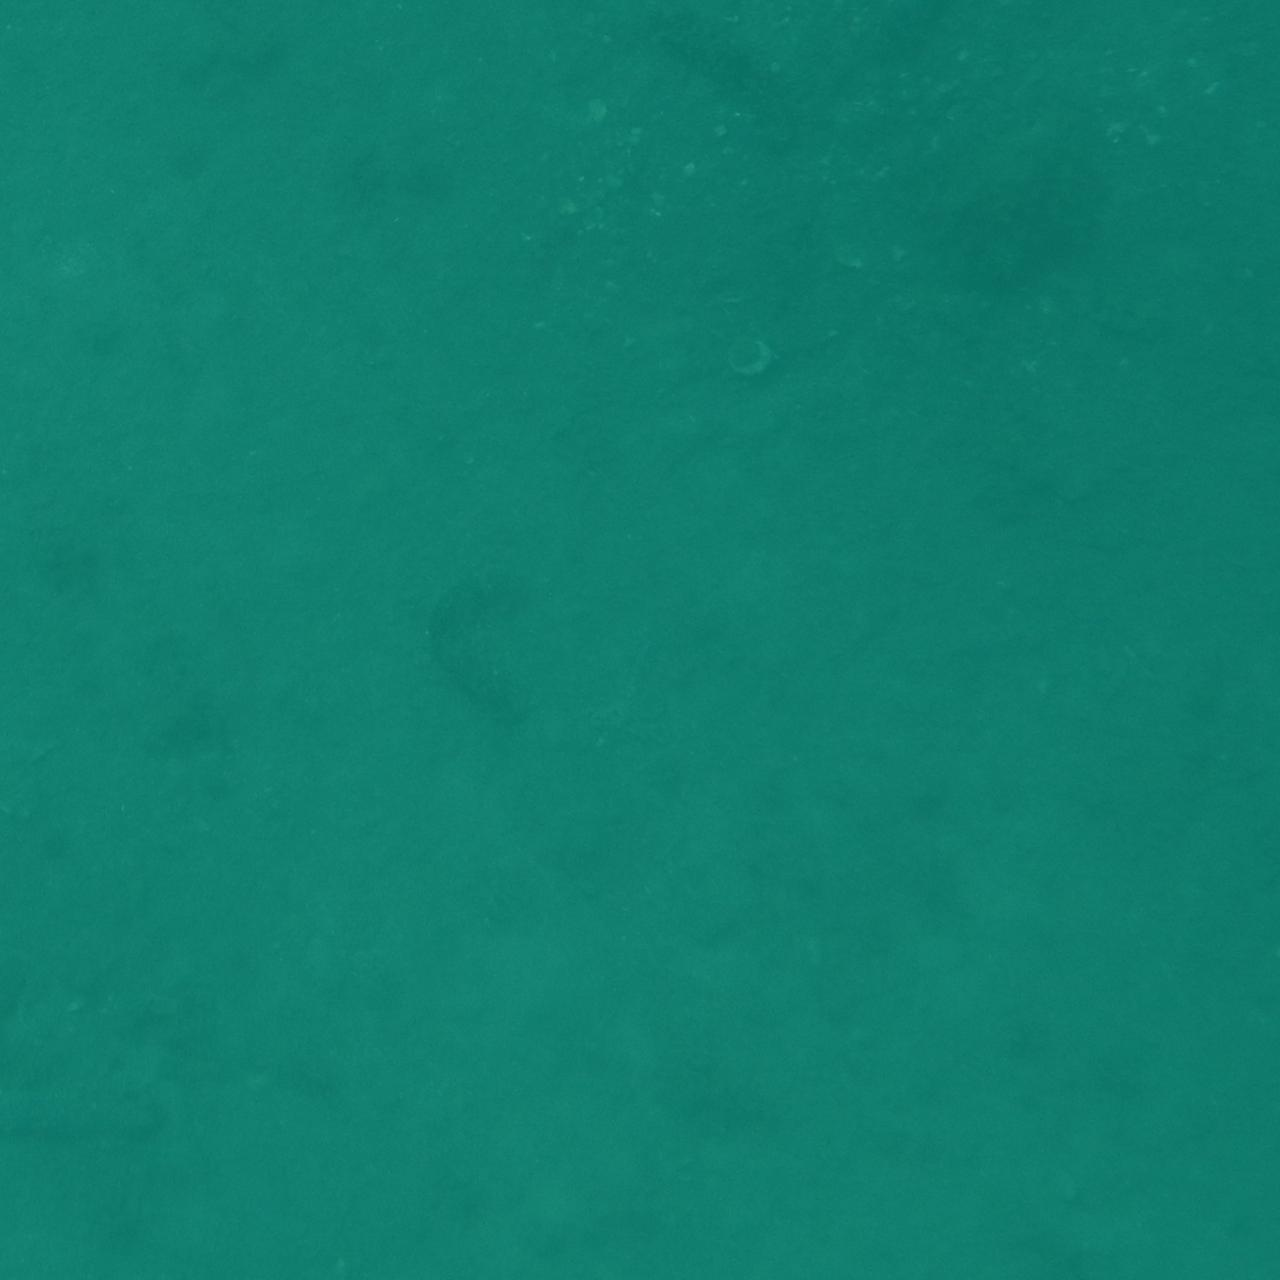Holothuria tubulosa: (395, 560, 579, 779), (1162, 231, 1280, 467), (0, 347, 135, 545), (0, 901, 120, 1067), (423, 0, 568, 125), (1138, 821, 1280, 946), (1152, 63, 1280, 200), (842, 0, 1021, 94), (0, 77, 113, 212), (0, 1071, 175, 1155), (0, 1160, 113, 1280), (195, 0, 298, 98), (1207, 0, 1280, 70), (0, 1178, 47, 1280)
